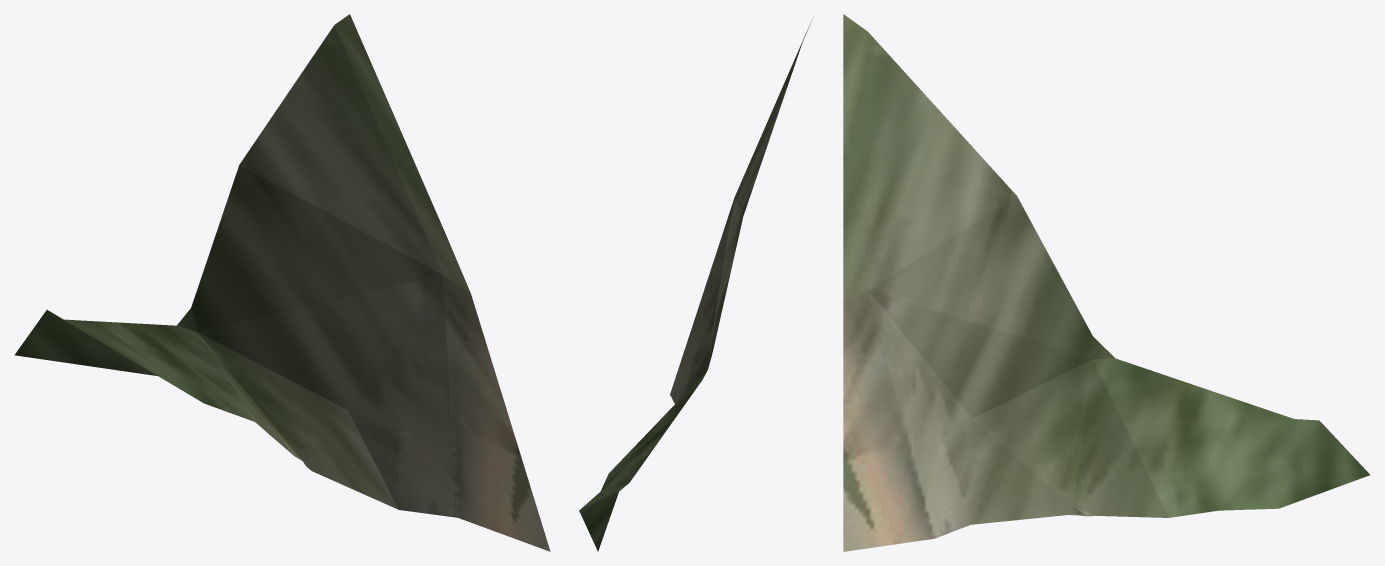
The picture shows the model from 3 angles, left to right: view 1: azimuth 30°, elevation 25°; view 2: azimuth 150°, elevation 25°; view 3: azimuth 270°, elevation 25°; orthographic projection. The views are drawn at different scales.
Bounding box in the file's own units: 0.5045 × 1.41 × 1.46.
1 material, 1 textured.
